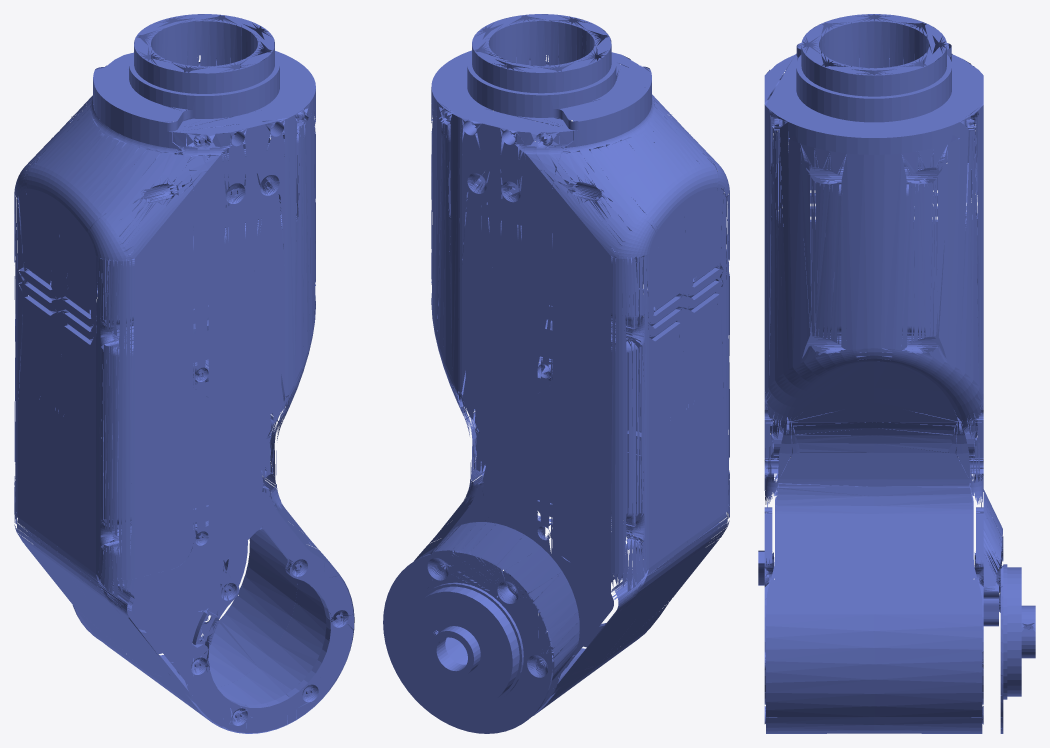
Rendered from A2R3_LT3_bicep.dae.
The picture shows the model from 3 angles, left to right: view 1: azimuth 30°, elevation 25°; view 2: azimuth 150°, elevation 25°; view 3: azimuth 270°, elevation 25°; orthographic projection. The views are drawn at different scales.
Visible parts, largest first — view 1: A2R3_LT3_bicep; view 2: A2R3_LT3_bicep; view 3: A2R3_LT3_bicep.
Part boxes in pixels (x1,y1,x2,y2): A2R3_LT3_bicep: (14, 14, 354, 733); A2R3_LT3_bicep: (383, 14, 729, 733); A2R3_LT3_bicep: (758, 14, 1035, 733).
Bounding box in the file's own units: 0.1003 × 0.0952 × 0.2551.
